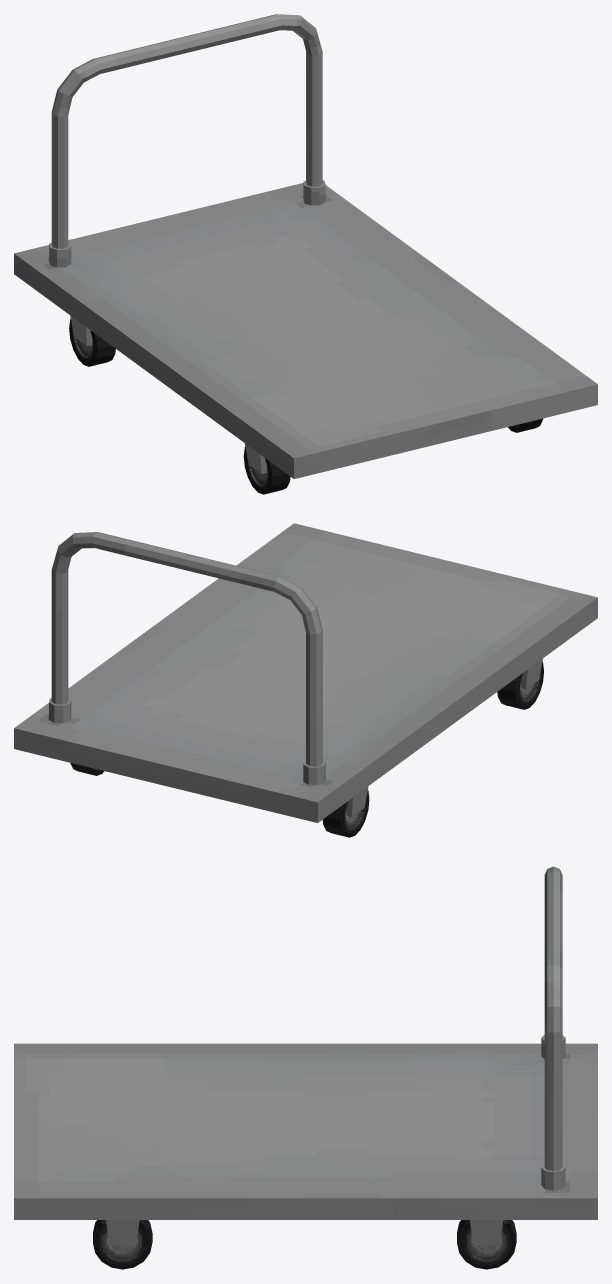
The model's file is push_dolly_2.fbx.
3 renders of one model, top to bottom at view 1: azimuth 30°, elevation 25°; view 2: azimuth 150°, elevation 25°; view 3: azimuth 270°, elevation 25°, orthographic. The views are drawn at different scales.
Parts seen in each view (by area): view 1: dolly; view 2: dolly; view 3: dolly.
Boxes of the visible parts, bbox=[...] form: dolly: bbox=[14, 14, 597, 494]; dolly: bbox=[14, 523, 597, 837]; dolly: bbox=[14, 866, 597, 1269].
Bounding box in the file's own units: 173 × 147 × 276.
3 materials, 2 textured.
